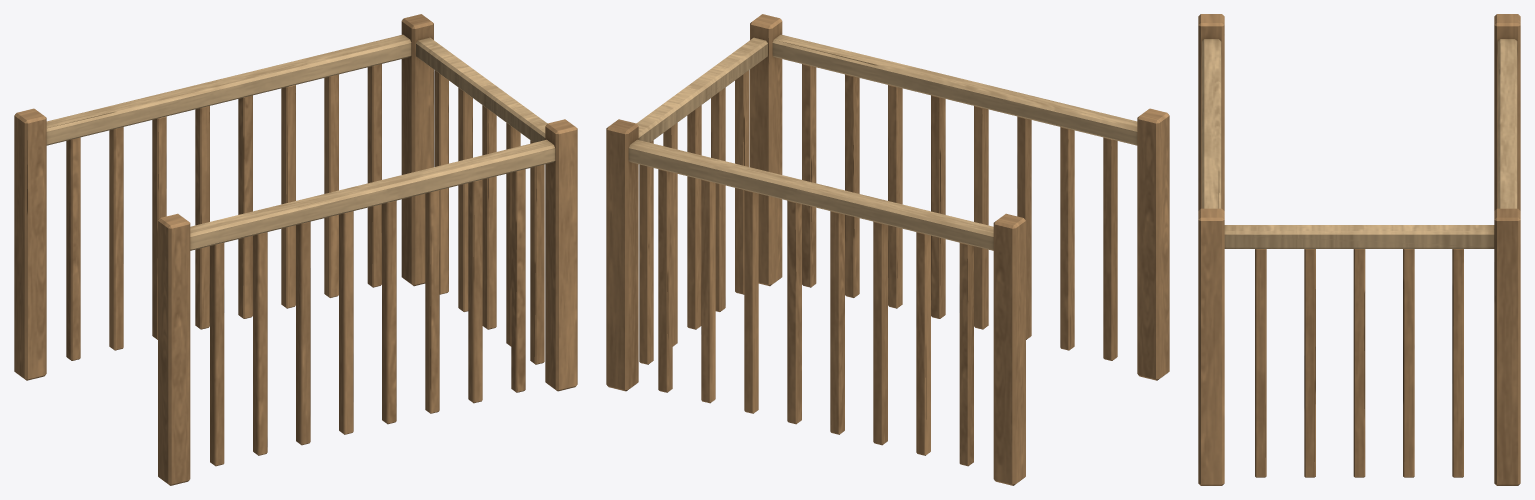
File: hatch-railing.glb
3 views of the same model, side by side, from view 1: azimuth 30°, elevation 25°; view 2: azimuth 150°, elevation 25°; view 3: azimuth 270°, elevation 25° (orthographic). The views are drawn at different scales.
Visible parts, largest first — view 1: hatch-railing; view 2: hatch-railing; view 3: hatch-railing.
Part boxes in pixels (x1,y1,x2,y2): hatch-railing: [14, 14, 577, 485]; hatch-railing: [606, 14, 1169, 485]; hatch-railing: [1198, 14, 1520, 485].
Bounding box in the file's own units: 1.48 × 0.9 × 0.98.
1 material, 1 textured.
